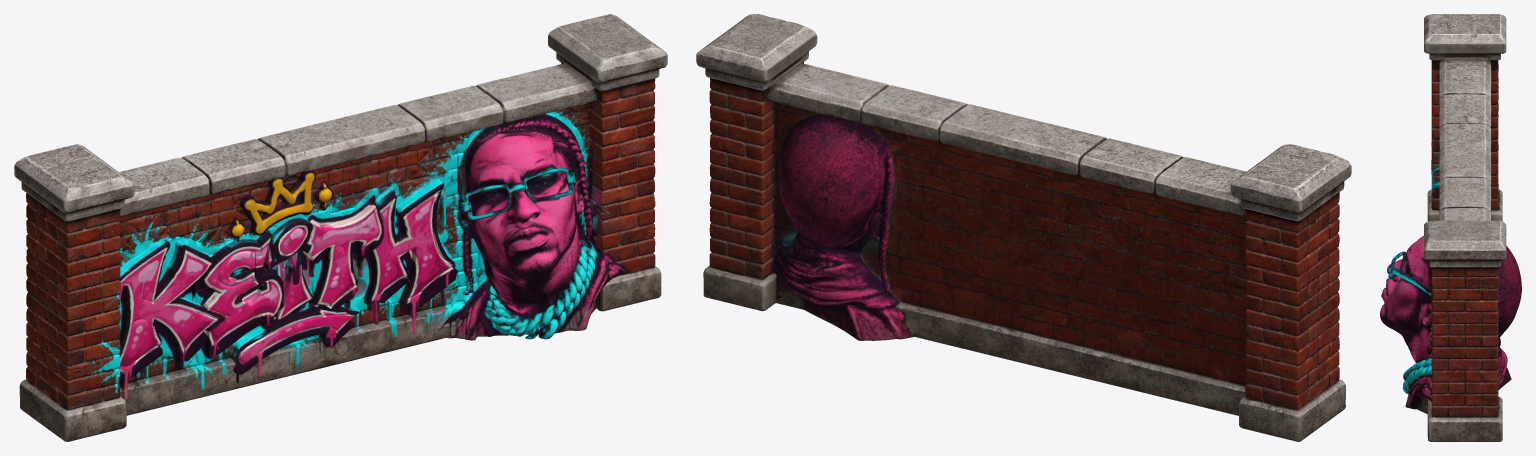
Rendered from wall.glb.
The picture shows the model from 3 angles, left to right: view 1: azimuth 30°, elevation 25°; view 2: azimuth 150°, elevation 25°; view 3: azimuth 270°, elevation 25°; orthographic projection. The views are drawn at different scales.
Parts seen in each view (by area): view 1: tripo_node_4a7e0f3a-8f85-4e13-978d-8efb81a986f7; view 2: tripo_node_4a7e0f3a-8f85-4e13-978d-8efb81a986f7; view 3: tripo_node_4a7e0f3a-8f85-4e13-978d-8efb81a986f7.
Part boxes in pixels (left/top/right/bottom): tripo_node_4a7e0f3a-8f85-4e13-978d-8efb81a986f7: left=14, top=14, right=667, bottom=441; tripo_node_4a7e0f3a-8f85-4e13-978d-8efb81a986f7: left=696, top=14, right=1351, bottom=441; tripo_node_4a7e0f3a-8f85-4e13-978d-8efb81a986f7: left=1380, top=14, right=1521, bottom=441.
Size of the model in its own units: 0.9804 by 0.3922 by 0.2514.
1 material, 1 textured.
